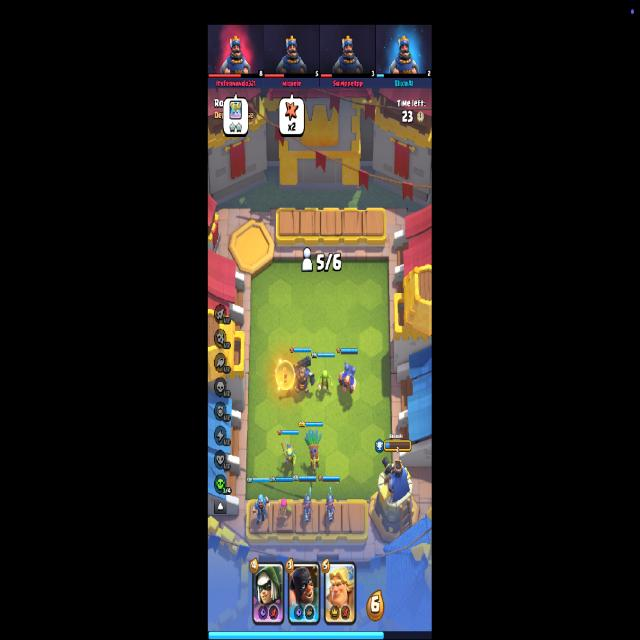archer: (278, 498, 293, 526)
card_bandit: (251, 562, 285, 626)
card_executioner: (288, 562, 320, 626)
card_golden_knight: (324, 561, 357, 627)
dart_goblin: (304, 429, 321, 471)
electro_giant: (338, 362, 357, 396)
goblin: (316, 370, 334, 394)
musketeer: (324, 486, 336, 525), (302, 487, 313, 522)
skeleton_king: (291, 355, 315, 394)
spear_goblin: (280, 440, 296, 470)
wizard: (253, 494, 270, 528)
